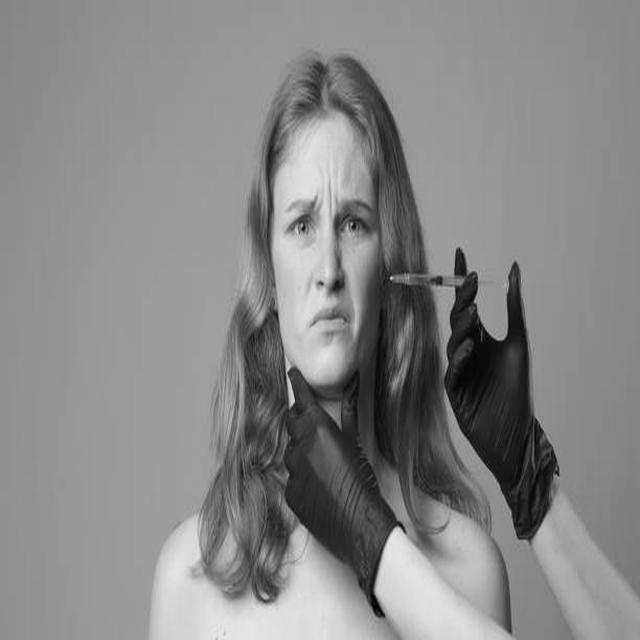Fear: (280, 117, 377, 384)
